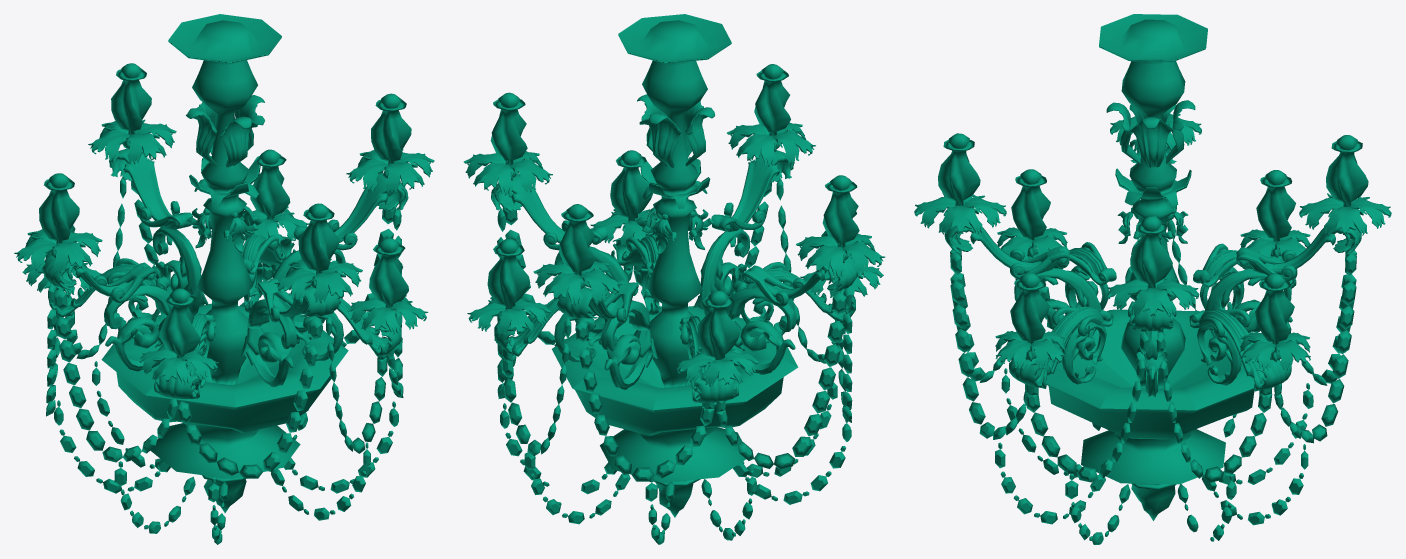
Rendered from lamparaTecho.fbx.
The picture shows the model from 3 angles, left to right: view 1: azimuth 30°, elevation 25°; view 2: azimuth 150°, elevation 25°; view 3: azimuth 270°, elevation 25°; orthographic projection.
Visible parts, largest first — view 1: moldurasLamparaTecho:pCylinder5, moldurasLamparaTecho:hojaPrimaria8 (×6), moldurasLamparaTecho:hojaPrimaria6 (×6), moldurasLamparaTecho:brazoBajo2, moldurasLamparaTecho:brazoBajo8, moldurasLamparaTecho:brazoBajo6, moldurasLamparaTecho:bombillaTecho2, moldurasLamparaTecho:bombillaTecho5, moldurasLamparaTecho:bombillaTecho3, moldurasLamparaTecho:bombillaTecho7, moldurasLamparaTecho:brazoAlto8, moldurasLamparaTecho:bombillaTecho4 (+18 smaller); view 2: moldurasLamparaTecho:pCylinder5, moldurasLamparaTecho:hojaPrimaria5 (×6), moldurasLamparaTecho:hojaPrimaria6 (×4), moldurasLamparaTecho:brazoBajo6, moldurasLamparaTecho:brazoBajo8, moldurasLamparaTecho:brazoBajo2, moldurasLamparaTecho:bombillaTecho8, moldurasLamparaTecho:bombillaTecho1, moldurasLamparaTecho:brazoAlto4, moldurasLamparaTecho:bombillaTecho6, moldurasLamparaTecho:bombillaTecho5, moldurasLamparaTecho:bombillaTecho7 (+20 smaller); view 3: moldurasLamparaTecho:pCylinder5, moldurasLamparaTecho:hojaPrimaria7 (×5), moldurasLamparaTecho:hojaPrimaria8 (×5), moldurasLamparaTecho:bombillaTecho5, moldurasLamparaTecho:bombillaTecho7, moldurasLamparaTecho:bombillaTecho2, moldurasLamparaTecho:bombillaTecho6, moldurasLamparaTecho:bombillaTecho8, moldurasLamparaTecho:bombillaTecho4, moldurasLamparaTecho:bombillaTecho1, moldurasLamparaTecho:hojaPrimaria5 (×3), moldurasLamparaTecho:brazoAlto5 (+19 smaller).
Boxes of the visible parts, <box> form: moldurasLamparaTecho:pCylinder5: <box>101,14,348,513</box>; moldurasLamparaTecho:hojaPrimaria8 (×6): <box>53,133,428,379</box>; moldurasLamparaTecho:hojaPrimaria6 (×6): <box>14,129,399,384</box>; moldurasLamparaTecho:brazoBajo2: <box>241,299,296,387</box>; moldurasLamparaTecho:brazoBajo8: <box>104,285,172,371</box>; moldurasLamparaTecho:brazoBajo6: <box>152,226,208,315</box>; moldurasLamparaTecho:bombillaTecho2: <box>111,63,151,148</box>; moldurasLamparaTecho:bombillaTecho5: <box>298,203,339,288</box>; moldurasLamparaTecho:bombillaTecho3: <box>39,173,79,258</box>; moldurasLamparaTecho:bombillaTecho7: <box>371,93,411,178</box>; moldurasLamparaTecho:brazoAlto8: <box>109,148,182,229</box>; moldurasLamparaTecho:bombillaTecho4: <box>160,288,200,374</box>; moldurasLamparaTecho:pCylinder5: <box>552,14,798,517</box>; moldurasLamparaTecho:hojaPrimaria5 (×6): <box>473,134,846,386</box>; moldurasLamparaTecho:hojaPrimaria6 (×4): <box>510,130,885,302</box>; moldurasLamparaTecho:brazoBajo6: <box>601,300,657,389</box>; moldurasLamparaTecho:brazoBajo8: <box>725,288,796,374</box>; moldurasLamparaTecho:brazoBajo2: <box>694,228,750,315</box>; moldurasLamparaTecho:bombillaTecho8: <box>487,238,530,324</box>; moldurasLamparaTecho:bombillaTecho1: <box>697,290,739,378</box>; moldurasLamparaTecho:brazoAlto4: <box>722,150,794,231</box>; moldurasLamparaTecho:bombillaTecho6: <box>610,150,652,235</box>; moldurasLamparaTecho:bombillaTecho5: <box>754,64,790,151</box>; moldurasLamparaTecho:bombillaTecho7: <box>490,92,527,180</box>; moldurasLamparaTecho:pCylinder5: <box>1046,14,1258,520</box>; moldurasLamparaTecho:hojaPrimaria7 (×5): <box>938,205,1367,370</box>; moldurasLamparaTecho:hojaPrimaria8 (×5): <box>914,196,1341,370</box>; moldurasLamparaTecho:bombillaTecho5: <box>938,133,980,205</box>; moldurasLamparaTecho:bombillaTecho7: <box>1130,216,1172,288</box>; moldurasLamparaTecho:bombillaTecho2: <box>1326,135,1368,206</box>; moldurasLamparaTecho:bombillaTecho6: <box>1010,272,1049,361</box>; moldurasLamparaTecho:bombillaTecho8: <box>1255,273,1294,361</box>; moldurasLamparaTecho:bombillaTecho4: <box>1011,169,1050,257</box>; moldurasLamparaTecho:bombillaTecho1: <box>1256,170,1295,257</box>; moldurasLamparaTecho:hojaPrimaria5 (×3): <box>964,195,1391,309</box>; moldurasLamparaTecho:brazoAlto5: <box>1199,308,1291,391</box>.
Size of the model in its own units: 476 by 535 by 470.
